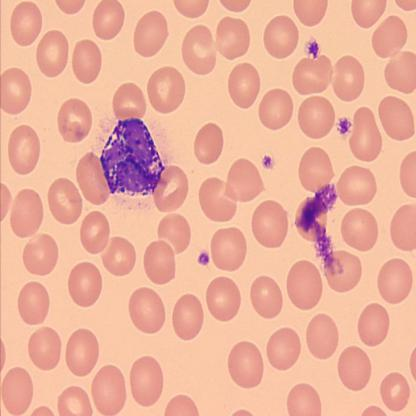Basophil: (97, 116, 168, 198)
